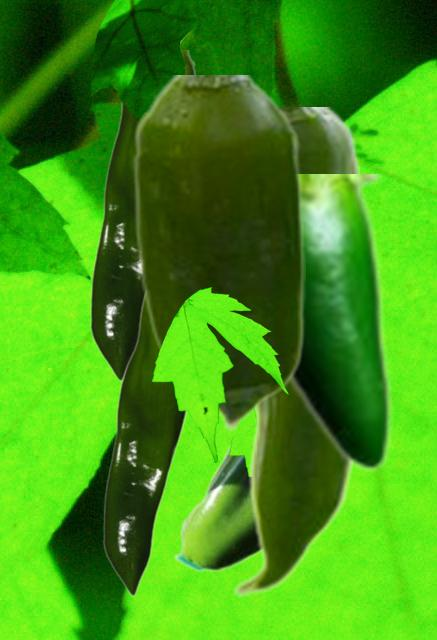green_chili: (132, 75, 304, 425), (222, 107, 358, 431), (89, 50, 195, 380), (288, 174, 392, 472), (231, 387, 357, 597), (102, 305, 188, 595), (173, 426, 258, 572)
